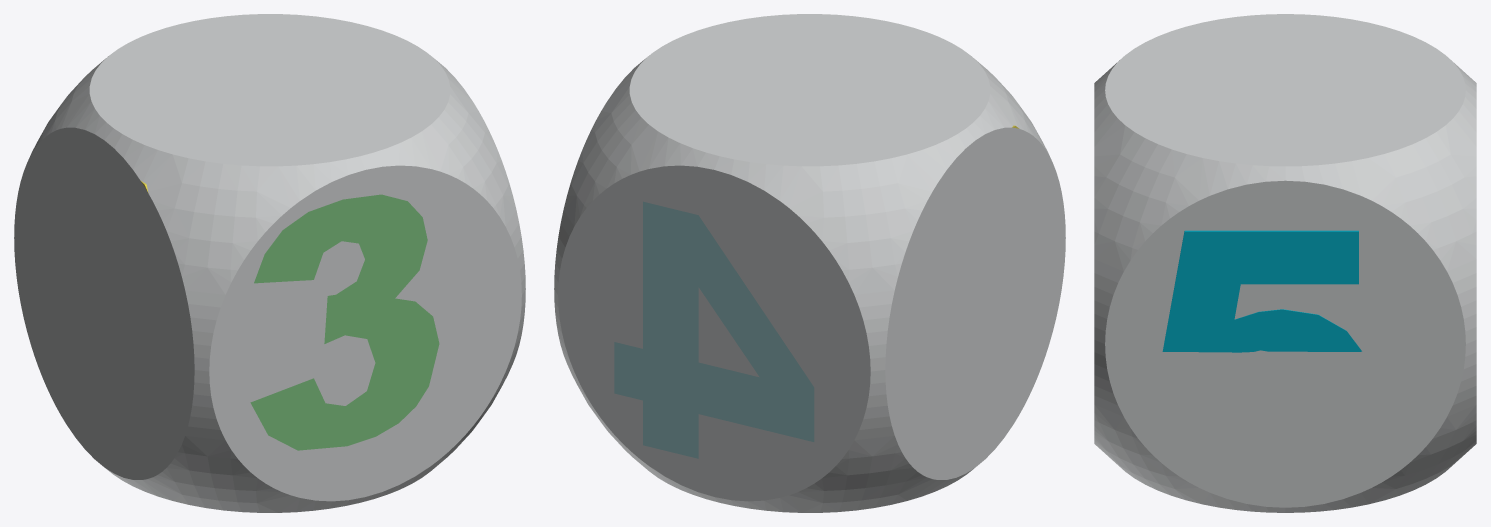
The model's file is og_die.glb.
3 views of the same model, side by side, from view 1: azimuth 30°, elevation 25°; view 2: azimuth 150°, elevation 25°; view 3: azimuth 270°, elevation 25° (orthographic).
Parts seen in each view (by area): view 1: Mesh_Mesh_head_geo.001_lambert2SG.001; view 2: Mesh_Mesh_head_geo.001_lambert2SG.001; view 3: Mesh_Mesh_head_geo.001_lambert2SG.001.
Part boxes in pixels (left/top/right/bottom): Mesh_Mesh_head_geo.001_lambert2SG.001: left=14, top=14, right=525, bottom=512; Mesh_Mesh_head_geo.001_lambert2SG.001: left=554, top=14, right=1065, bottom=512; Mesh_Mesh_head_geo.001_lambert2SG.001: left=1094, top=14, right=1476, bottom=512.
Bounding box in the file's own units: 16.1 × 16 × 16.
